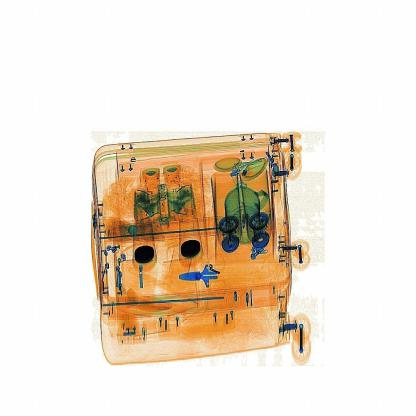gun: (174, 251, 226, 306)
